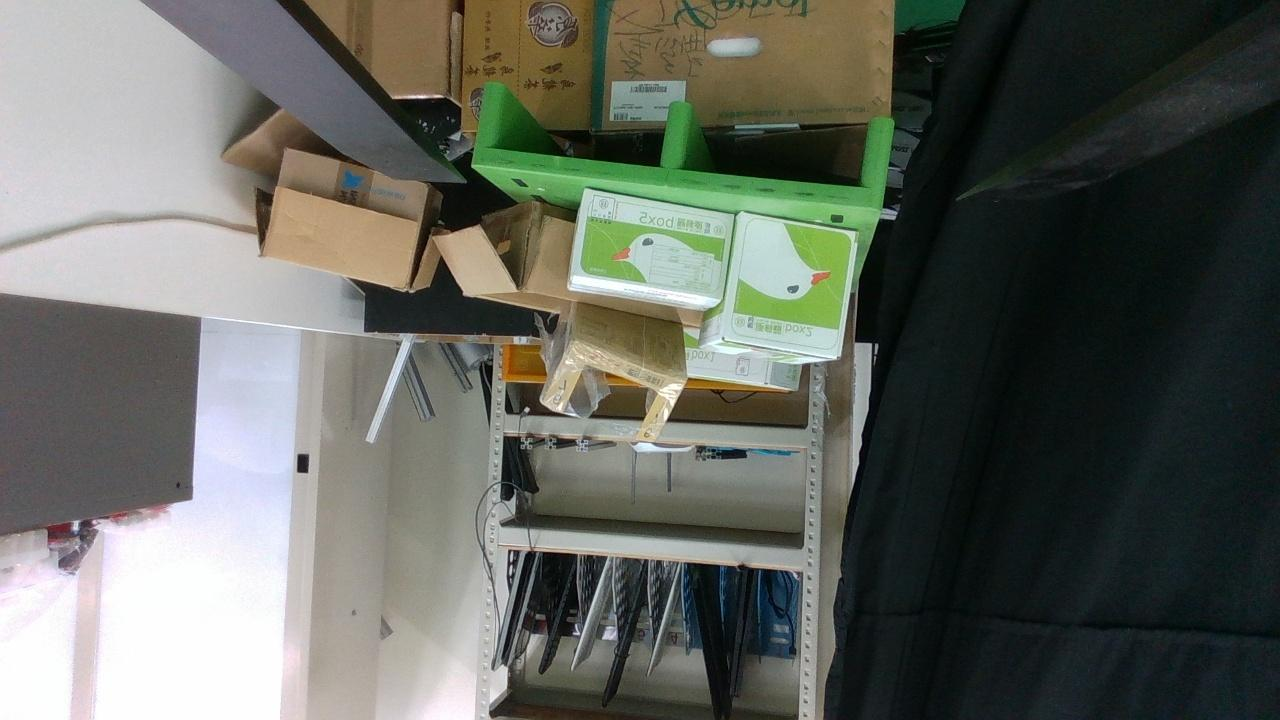Pallet: (472, 84, 895, 211)
